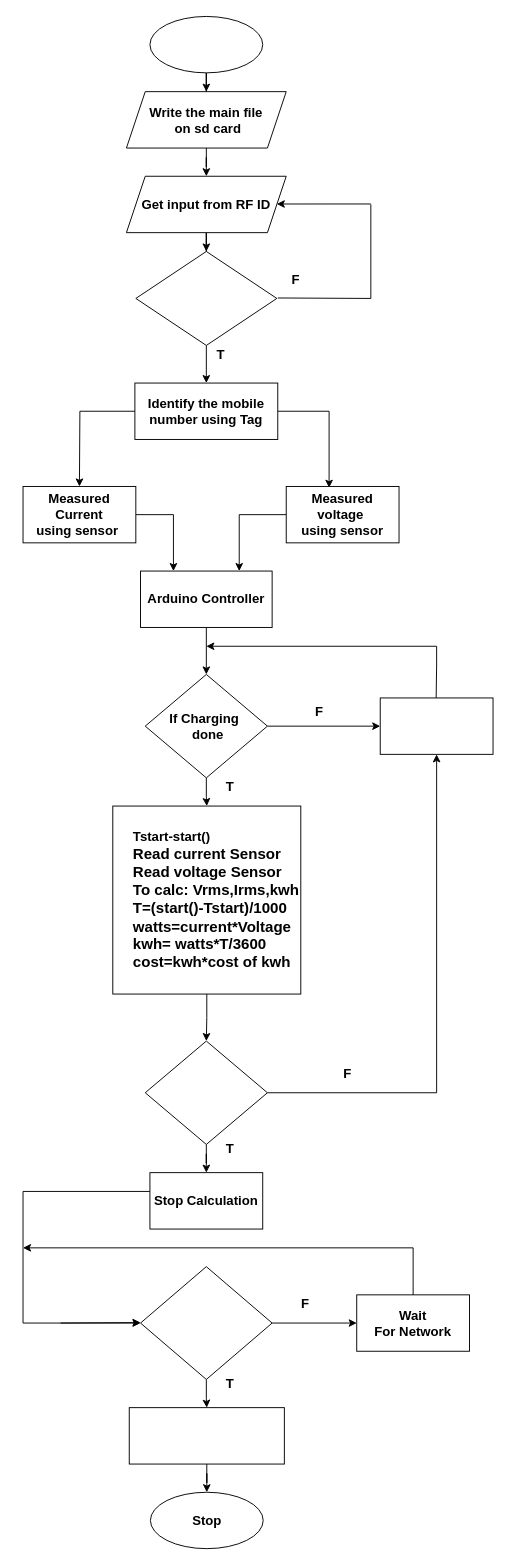
Image size: 509x1565. Some labels were removed from this diagram. Here are the shapes that lost their labels. From the top down, the centre of each, then its label:
(x=206, y=44): Start
(x=206, y=298): If RF Tag is registered
(x=436, y=725): Wait till charging
(x=205, y=1092): If Irms=0
(x=206, y=1322): If GSM Connected to network
(x=206, y=1435): Send SMS to the Registered mobile number using gsm
